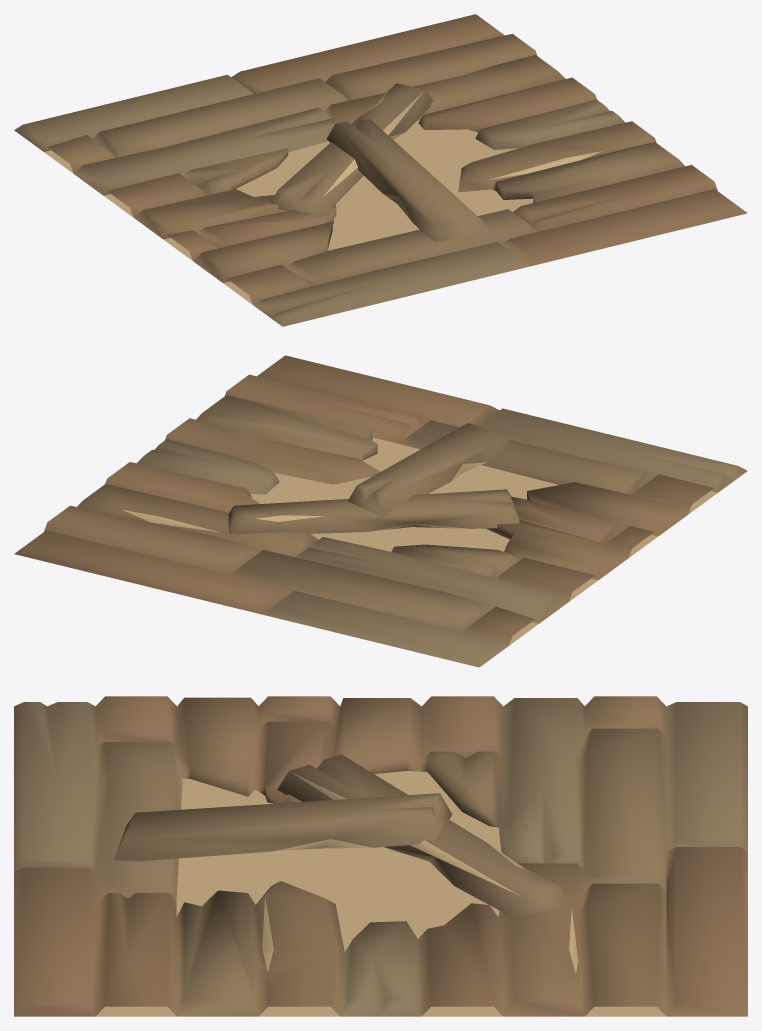
The model's file is rpgpp_av_floor_01a_3x3.gltf.
The picture shows the model from 3 angles, top to bottom: view 1: azimuth 30°, elevation 25°; view 2: azimuth 150°, elevation 25°; view 3: azimuth 270°, elevation 25°; orthographic projection. The views are drawn at different scales.
Parts seen in each view (by area): view 1: rpgpp_av_floor_01a_3x3; view 2: rpgpp_av_floor_01a_3x3; view 3: rpgpp_av_floor_01a_3x3.
Boxes of the visible parts, x1,y1,x2,y2 form: rpgpp_av_floor_01a_3x3: (14, 14, 747, 326); rpgpp_av_floor_01a_3x3: (14, 355, 747, 667); rpgpp_av_floor_01a_3x3: (14, 696, 747, 1016).
Size of the model in its own units: 0.03 by 0.00237 by 0.03.
Materials: 1 (1 with a texture image).
